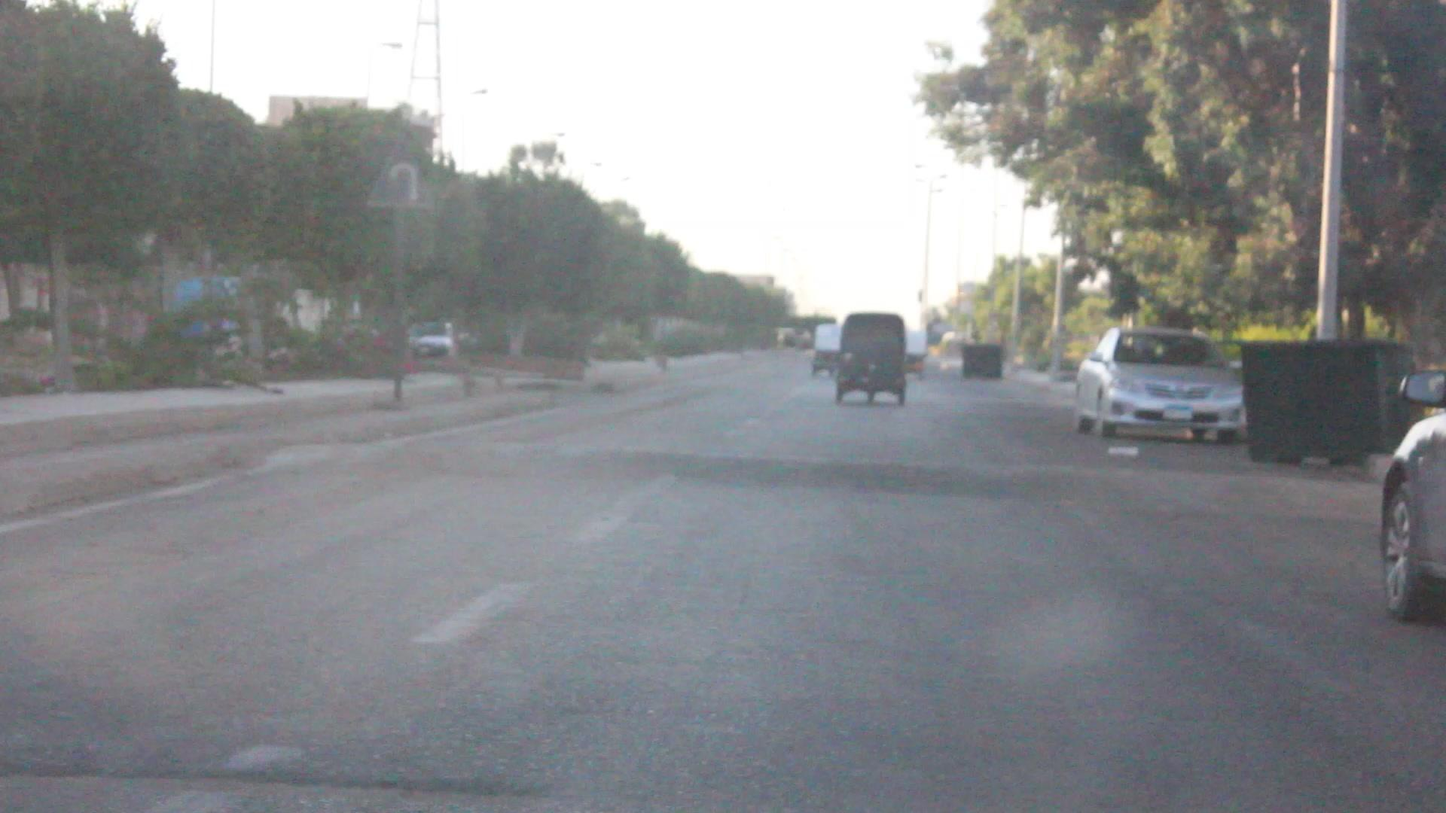Bump: (246, 437, 1382, 520)
